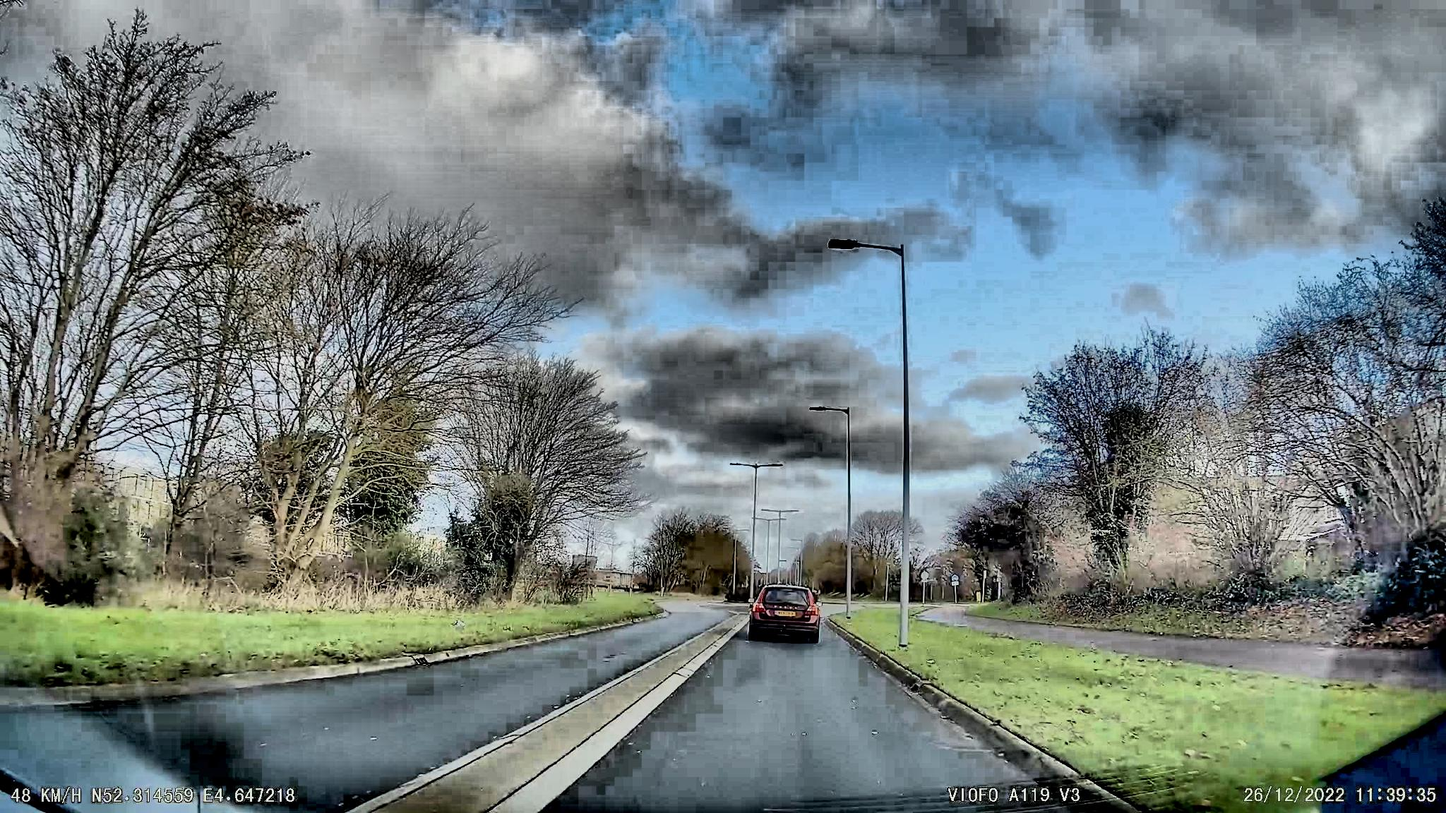Roads: (0, 612, 1148, 813)
